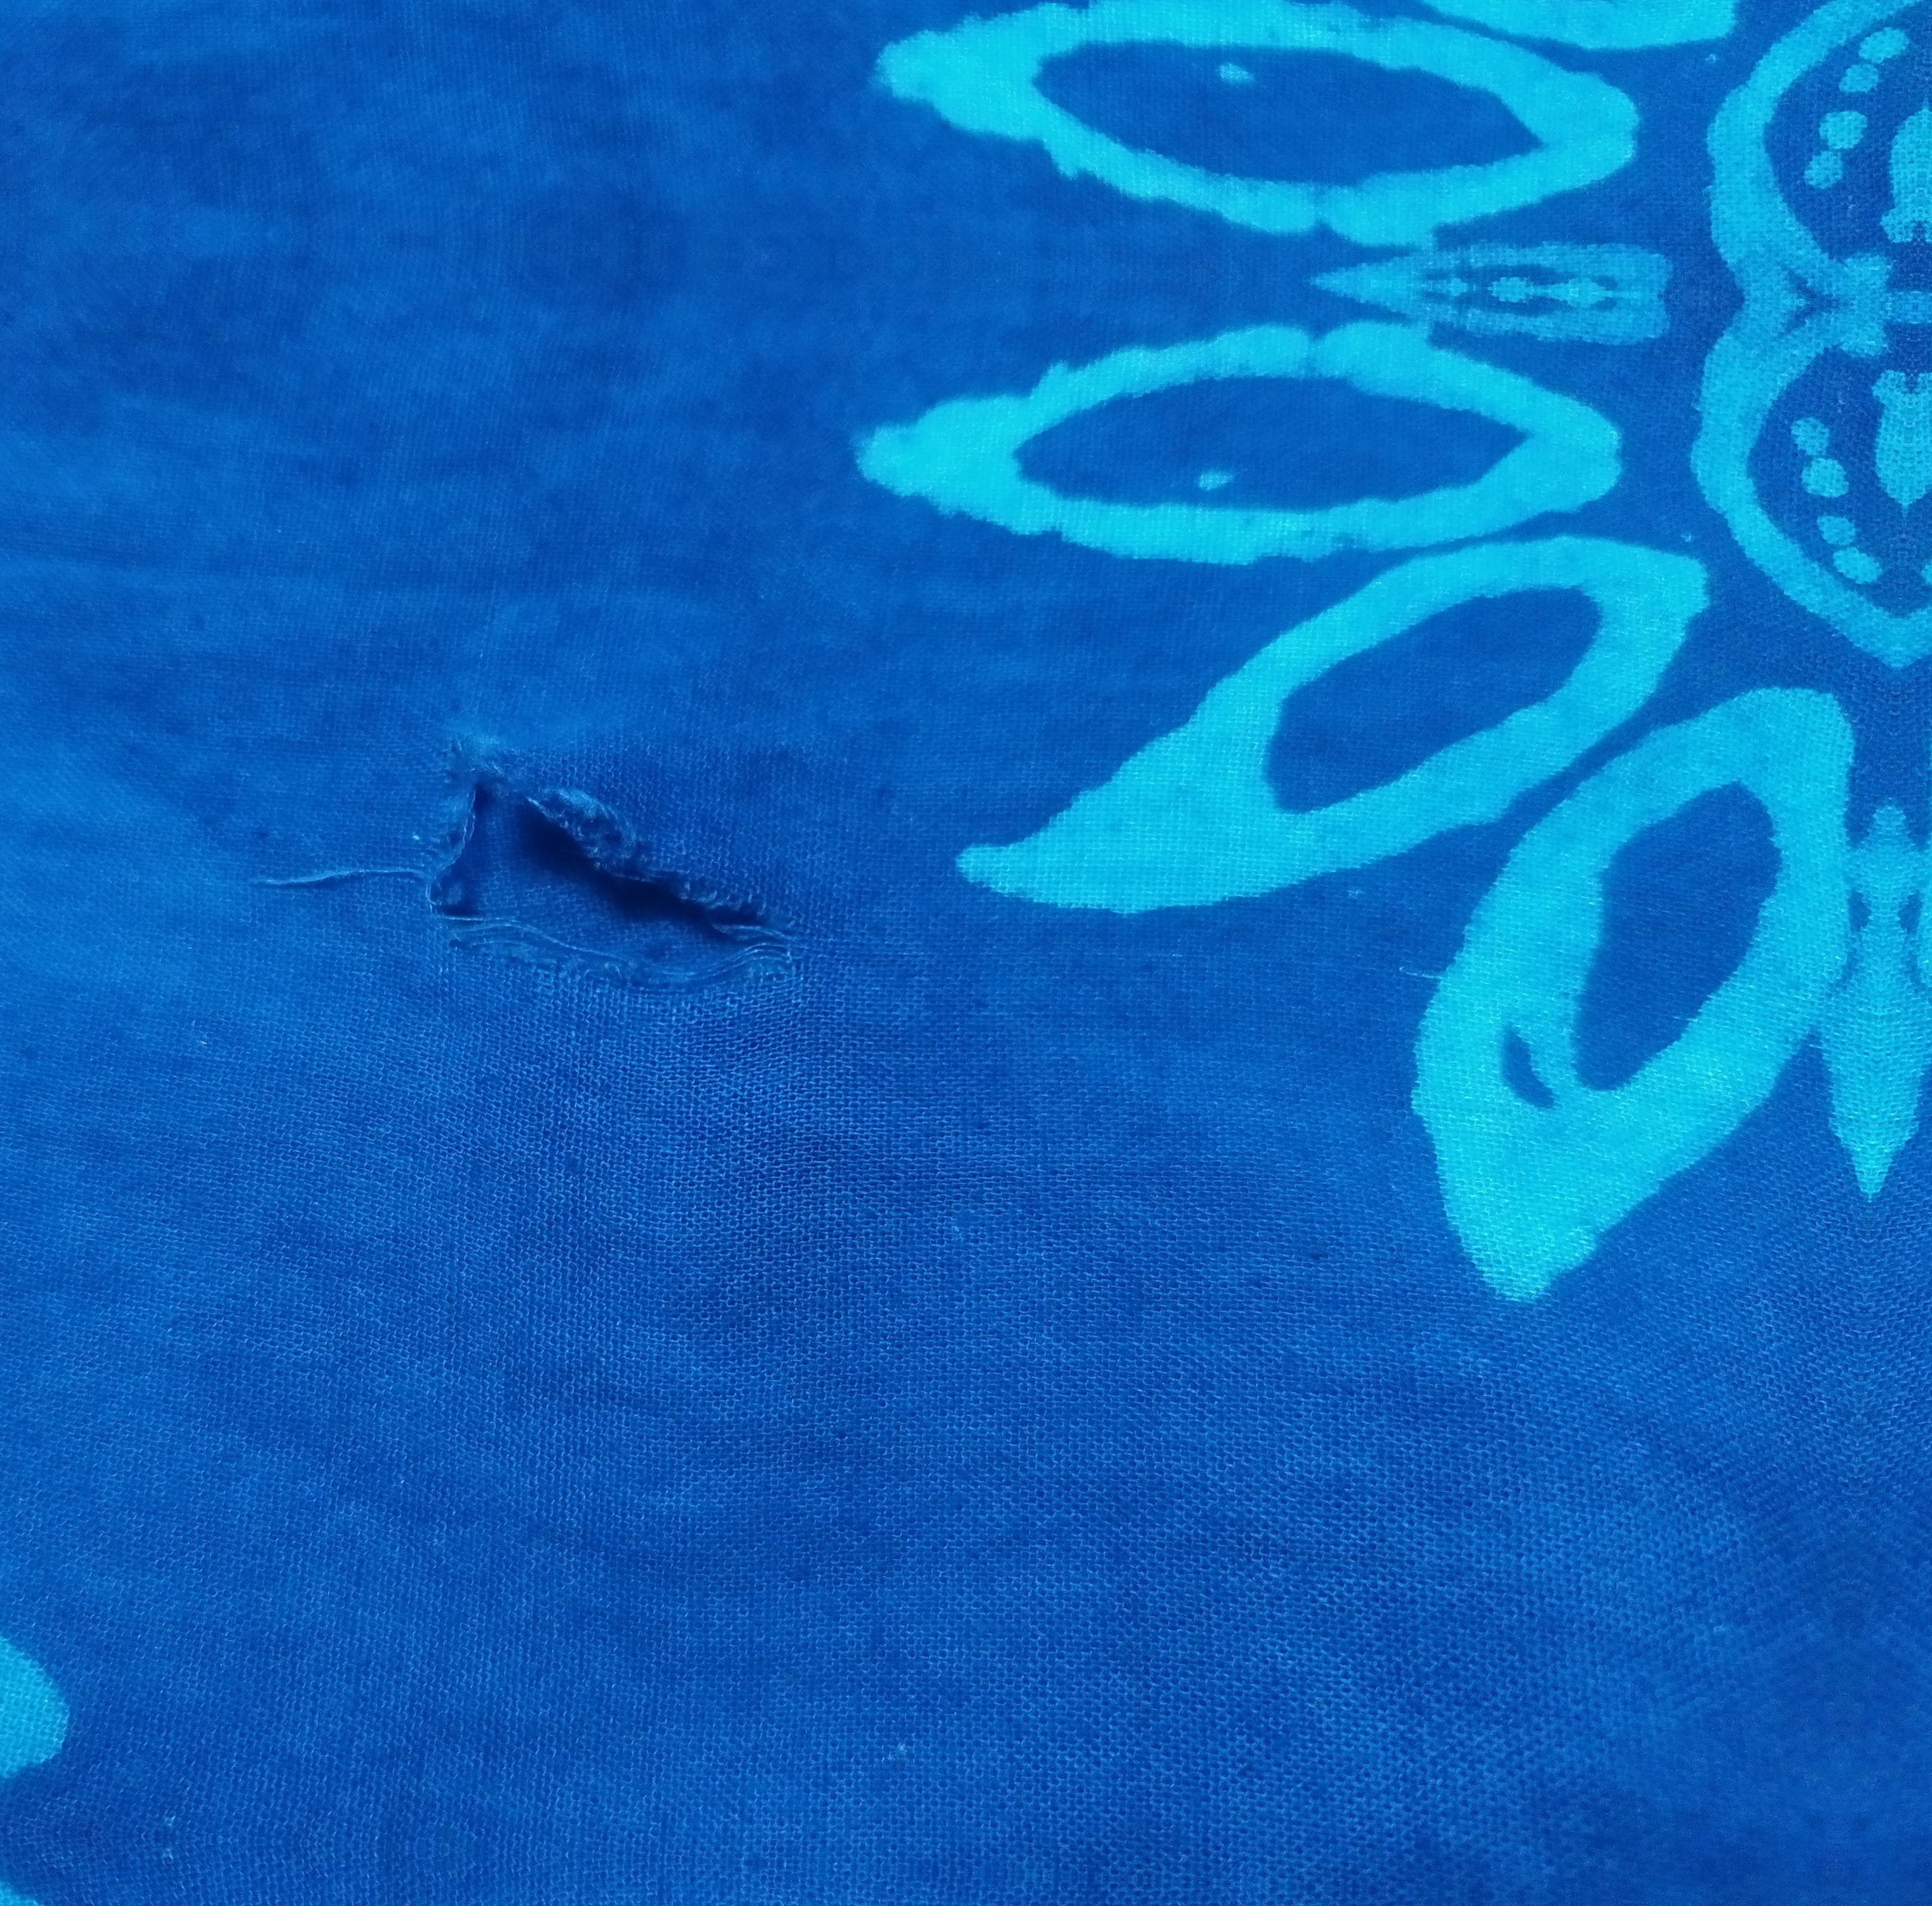hole: (323, 721, 864, 1026)
